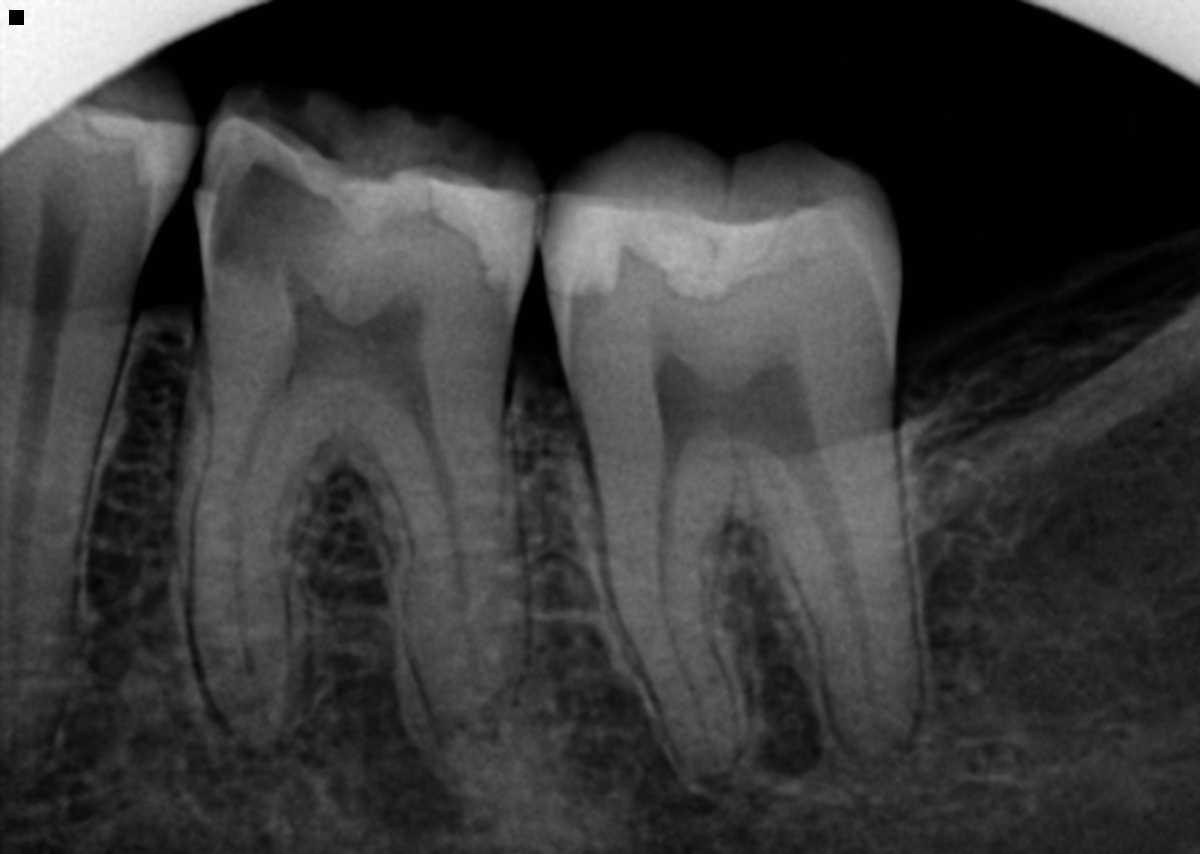Apical Lesion: (201, 707, 309, 776), (434, 680, 535, 746)
Distal Canal: (790, 454, 882, 744), (414, 416, 486, 710)
Distal Root: (755, 432, 923, 760), (373, 417, 528, 725)
Main Canal: (6, 319, 64, 708)
Main Root: (0, 312, 139, 762)
Mesial Canal: (658, 454, 719, 766), (234, 418, 277, 711)
Mesial Root: (197, 411, 345, 754), (596, 450, 749, 776)
decay: (212, 158, 344, 279)
